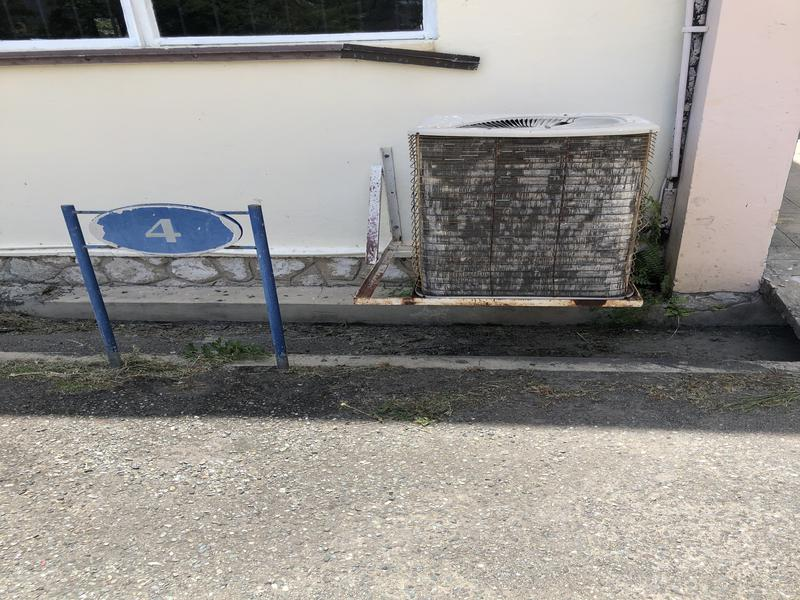18.0053530_-76.7490375_signatentrancetoscitech: (39, 190, 313, 386)
